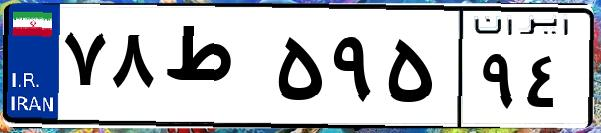4: (525, 38, 570, 115)
5: (270, 28, 330, 110), (385, 28, 445, 110)
7: (57, 26, 110, 100)
8: (110, 28, 158, 98)
9: (330, 28, 385, 110), (475, 38, 525, 113)
ط: (158, 20, 270, 120)
